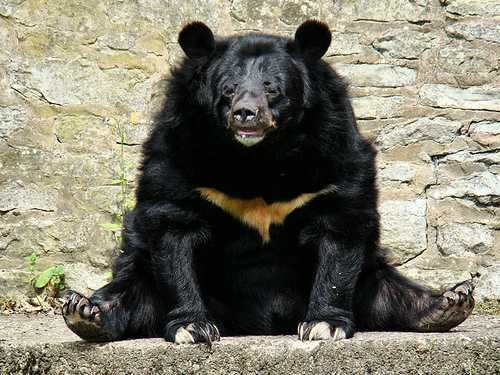bear: (190, 29, 318, 157)
